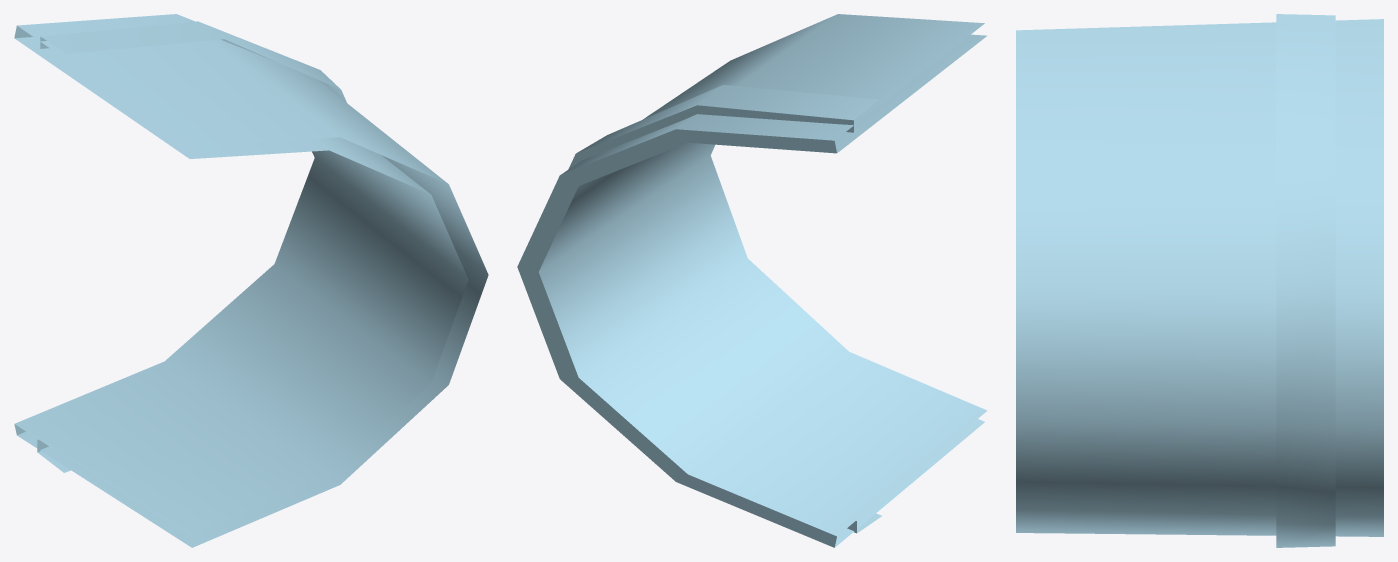
3 views of the same model, side by side, from view 1: azimuth 30°, elevation 25°; view 2: azimuth 150°, elevation 25°; view 3: azimuth 270°, elevation 25° (orthographic). The views are drawn at different scales.
Visible parts, largest first — view 1: Object36; view 2: Object36; view 3: Object36.
Part boxes in pixels (x1,y1,x2,y2): Object36: (14, 14, 488, 547); Object36: (517, 14, 987, 547); Object36: (1016, 14, 1383, 547).
Size of the model in its own units: 20788 by 25213 by 17869.
